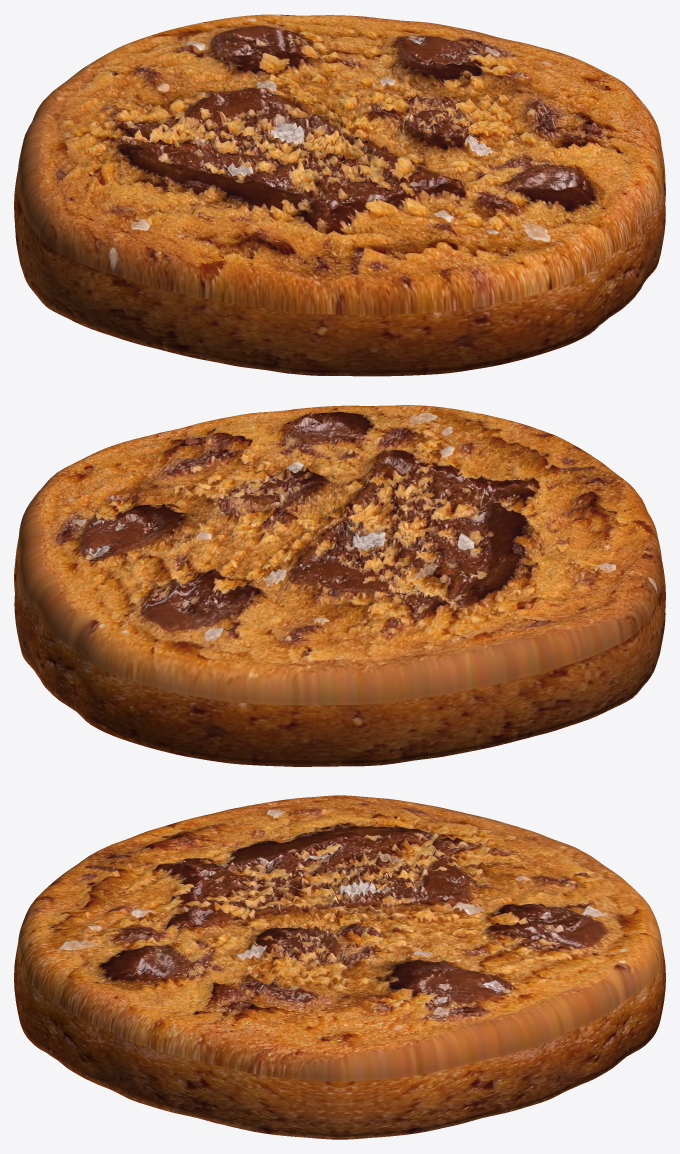
Rendered from kuki-cookie.glb.
The picture shows the model from 3 angles, top to bottom: view 1: azimuth 30°, elevation 25°; view 2: azimuth 150°, elevation 25°; view 3: azimuth 270°, elevation 25°; orthographic projection. The views are drawn at different scales.
Parts seen in each view (by area): view 1: KukiCookie; view 2: KukiCookie; view 3: KukiCookie.
Part boxes in pixels (<box>): KukiCookie: <box>14,14,665,376</box>; KukiCookie: <box>14,405,665,766</box>; KukiCookie: <box>14,795,665,1139</box>.
Bounding box in the file's own units: 1.99 × 0.3775 × 2.02.
1 material, 1 textured.
